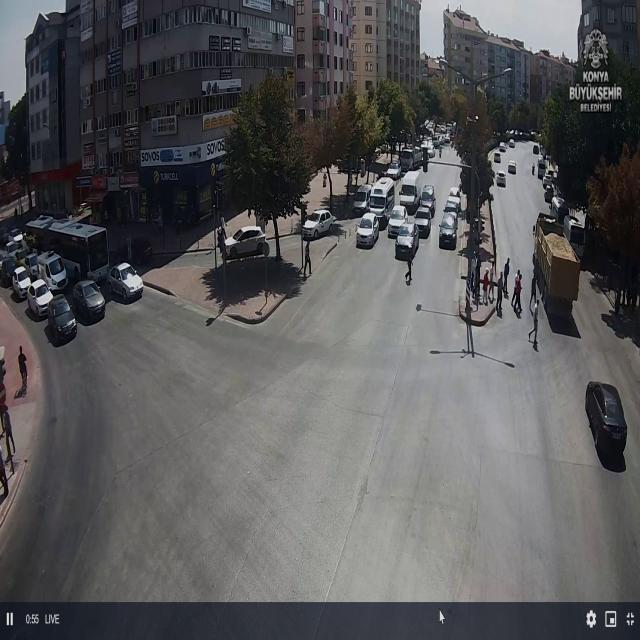Car: (585, 383, 627, 464), (220, 224, 270, 260), (45, 295, 78, 346), (104, 264, 145, 302), (72, 280, 107, 323), (26, 280, 54, 322), (302, 208, 336, 240), (1, 232, 29, 265), (355, 212, 381, 247), (395, 223, 420, 259), (386, 204, 409, 237), (438, 214, 459, 249), (10, 267, 32, 298), (1, 257, 22, 289), (128, 236, 152, 264), (352, 184, 373, 215), (412, 208, 432, 238), (366, 204, 388, 230), (419, 184, 436, 214), (24, 250, 42, 278), (444, 189, 462, 215), (551, 196, 568, 221), (37, 210, 70, 222), (386, 162, 402, 180), (8, 229, 24, 245), (542, 174, 554, 190), (1, 232, 14, 246), (448, 187, 461, 200), (544, 186, 554, 202), (375, 144, 391, 154), (537, 160, 546, 177), (496, 171, 506, 186), (543, 215, 556, 226), (401, 144, 414, 154), (413, 145, 423, 157), (520, 130, 532, 140), (545, 167, 555, 178), (421, 135, 431, 146), (568, 215, 580, 224), (508, 160, 516, 173), (433, 138, 442, 148), (428, 147, 436, 158), (492, 132, 501, 141), (499, 142, 507, 152), (537, 155, 544, 166), (438, 125, 447, 133), (506, 130, 515, 138), (423, 120, 432, 128), (494, 152, 501, 162), (530, 131, 538, 139), (535, 132, 543, 140), (444, 134, 451, 143), (427, 126, 434, 135), (445, 125, 452, 134), (533, 144, 539, 154), (538, 146, 544, 156), (374, 147, 382, 154), (509, 138, 515, 146), (544, 154, 550, 162), (512, 130, 520, 136), (451, 122, 456, 130)
Van: (37, 249, 67, 292), (369, 177, 395, 215), (566, 222, 586, 260), (60, 258, 84, 289), (399, 189, 418, 212), (400, 148, 418, 171)
